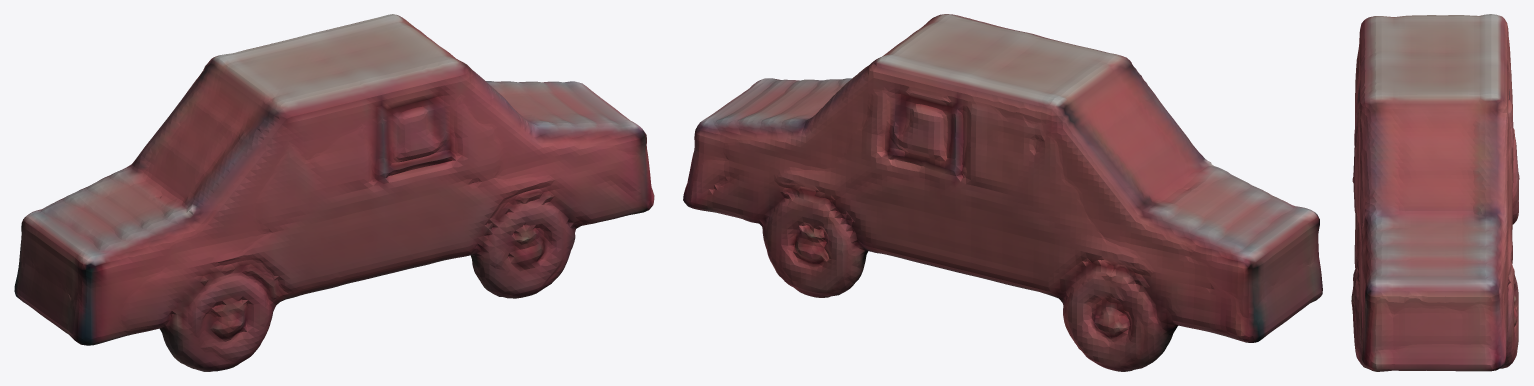
The model's file is model_from_best_candidate.glb.
3 renders of one model, left to right at view 1: azimuth 30°, elevation 25°; view 2: azimuth 150°, elevation 25°; view 3: azimuth 270°, elevation 25°, orthographic. The views are drawn at different scales.
Visible parts, largest first — view 1: geometry_0; view 2: geometry_0; view 3: geometry_0.
Boxes of the visible parts, left/top/right/bottom form: geometry_0: left=14, top=14, right=654, bottom=371; geometry_0: left=683, top=14, right=1322, bottom=371; geometry_0: left=1351, top=14, right=1519, bottom=371.
Size of the model in its own units: 1 by 0.4136 by 0.2633.
